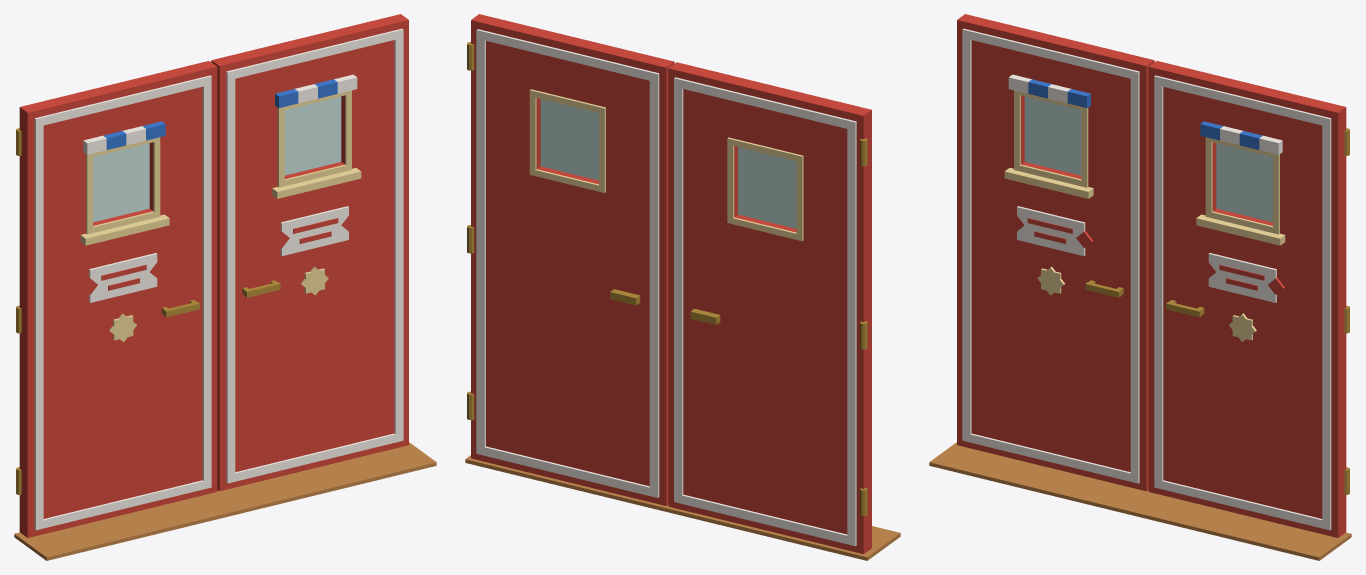
Rendered from CatCafe_Door_TicketGate_Front.glb.
The picture shows the model from 3 angles, left to right: view 1: azimuth 30°, elevation 25°; view 2: azimuth 150°, elevation 25°; view 3: azimuth 330°, elevation 25°; orthographic projection. The views are drawn at different scales.
Visible parts, largest first — view 1: CatCafe_Door_TicketGate_Front_LeafR, CatCafe_Door_TicketGate_Front_LeafL, CatCafe_Door_TicketGate_Front, CatCafe_Door_TicketGate_Front_LeafL_Glass, CatCafe_Door_TicketGate_Front_LeafR_Glass; view 2: CatCafe_Door_TicketGate_Front_LeafR, CatCafe_Door_TicketGate_Front_LeafL, CatCafe_Door_TicketGate_Front_LeafL_Glass, CatCafe_Door_TicketGate_Front_LeafR_Glass, CatCafe_Door_TicketGate_Front; view 3: CatCafe_Door_TicketGate_Front_LeafL, CatCafe_Door_TicketGate_Front_LeafR, CatCafe_Door_TicketGate_Front, CatCafe_Door_TicketGate_Front_LeafR_Glass, CatCafe_Door_TicketGate_Front_LeafL_Glass.
Part boxes in pixels (x1,y1,x2,y2): CatCafe_Door_TicketGate_Front_LeafR: (16,61,217,537); CatCafe_Door_TicketGate_Front_LeafL: (211,14,408,491); CatCafe_Door_TicketGate_Front: (14,442,436,560); CatCafe_Door_TicketGate_Front_LeafL_Glass: (284,96,341,175); CatCafe_Door_TicketGate_Front_LeafR_Glass: (93,143,149,222); CatCafe_Door_TicketGate_Front_LeafR: (668,62,871,554); CatCafe_Door_TicketGate_Front_LeafL: (467,14,674,505); CatCafe_Door_TicketGate_Front_LeafL_Glass: (540,99,598,180); CatCafe_Door_TicketGate_Front_LeafR_Glass: (738,147,796,228); CatCafe_Door_TicketGate_Front: (465,455,900,560); CatCafe_Door_TicketGate_Front_LeafL: (1148,61,1349,537); CatCafe_Door_TicketGate_Front_LeafR: (957,14,1154,491); CatCafe_Door_TicketGate_Front: (929,442,1351,560); CatCafe_Door_TicketGate_Front_LeafR_Glass: (1024,96,1081,175); CatCafe_Door_TicketGate_Front_LeafL_Glass: (1216,143,1272,222).
Bounding box in the file's own units: 6.96 × 7.33 × 1.09.
1 material, 1 textured.
